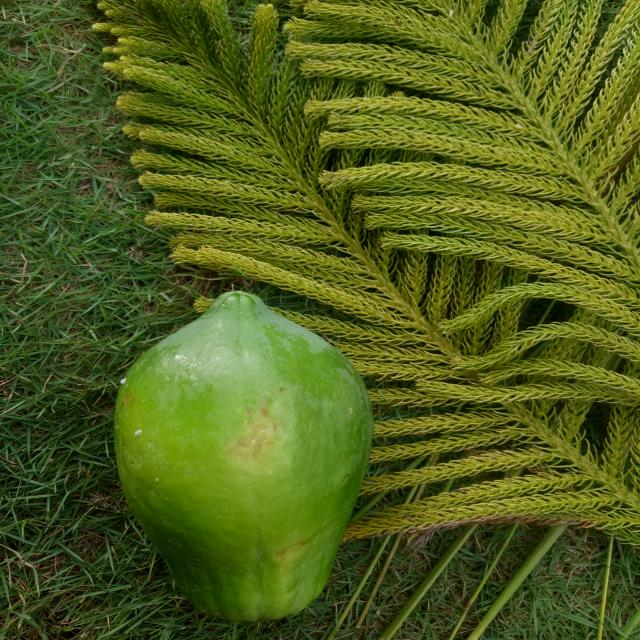Pepaya unrippen: (113, 286, 380, 628)
